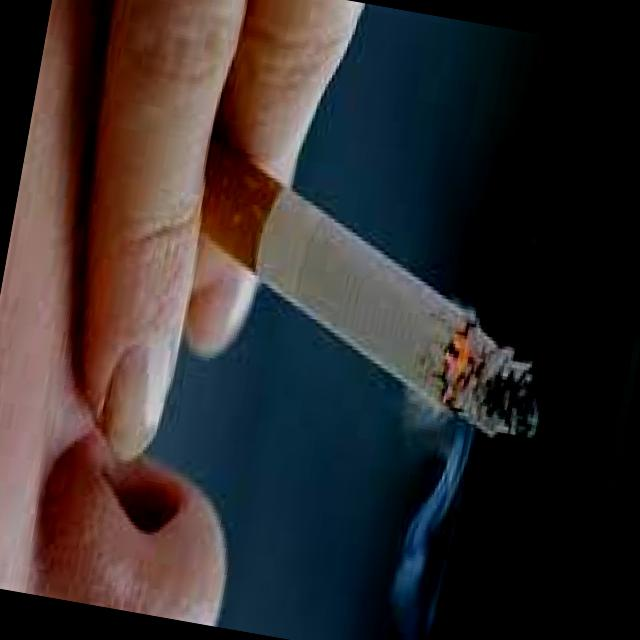smoke: (167, 137, 580, 452)
